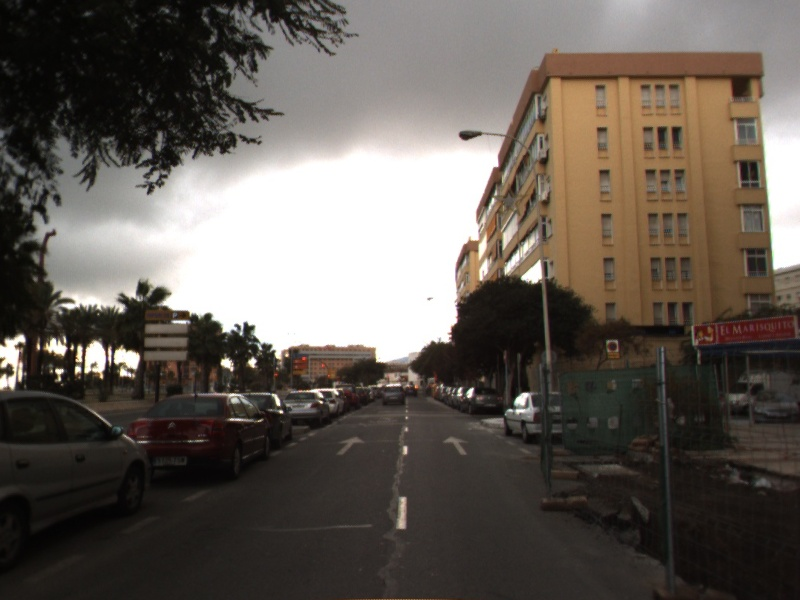STRAIGHT: (335, 435, 367, 456), (442, 435, 471, 456)
